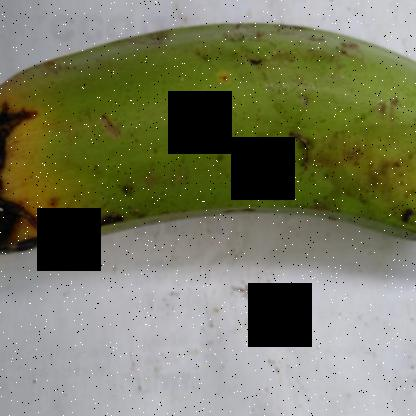rotten: (1, 40, 141, 285)
unripe: (96, 19, 416, 251)
